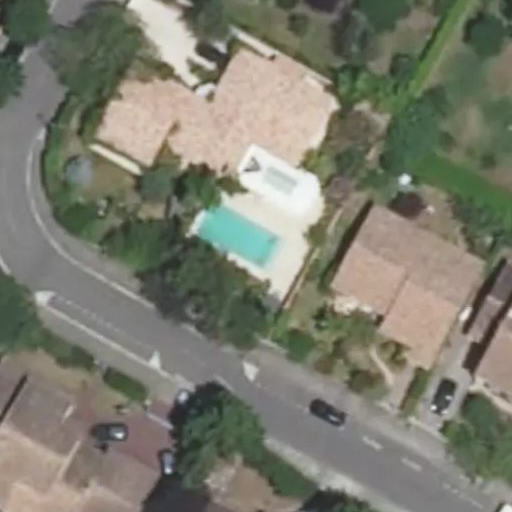pool: (195, 203, 279, 268)
